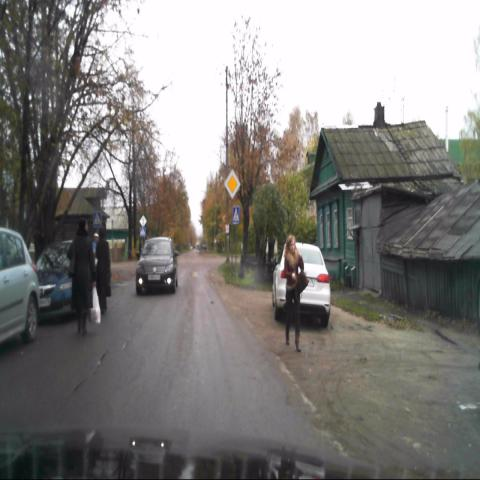2_1: (224, 168, 241, 198)
